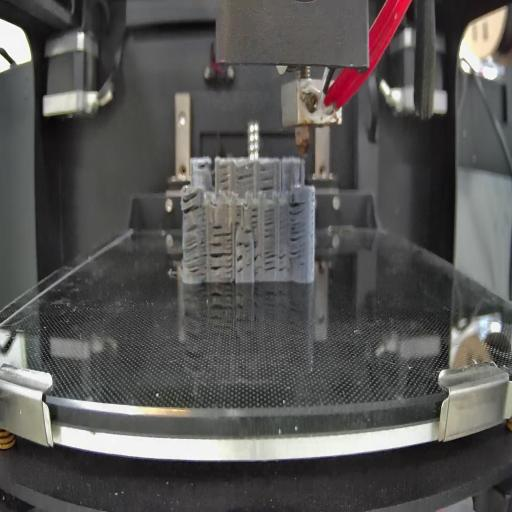cracks: (182, 225, 207, 276), (290, 202, 305, 262), (209, 239, 233, 276), (264, 250, 288, 274), (182, 192, 202, 216), (258, 167, 276, 191), (264, 205, 275, 240), (213, 220, 232, 239), (219, 165, 230, 192), (235, 169, 255, 183), (254, 239, 262, 273), (251, 203, 260, 228), (234, 202, 243, 226), (237, 238, 252, 249), (237, 254, 244, 276), (244, 226, 253, 237)
